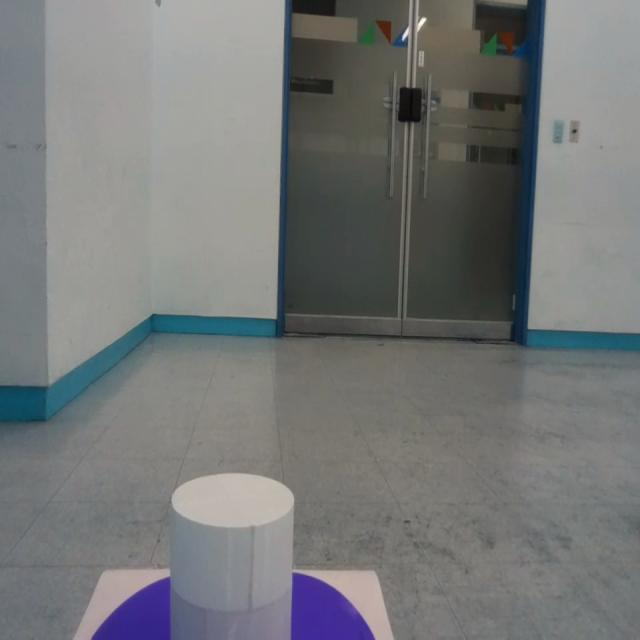cylinder: (168, 473, 295, 639)
